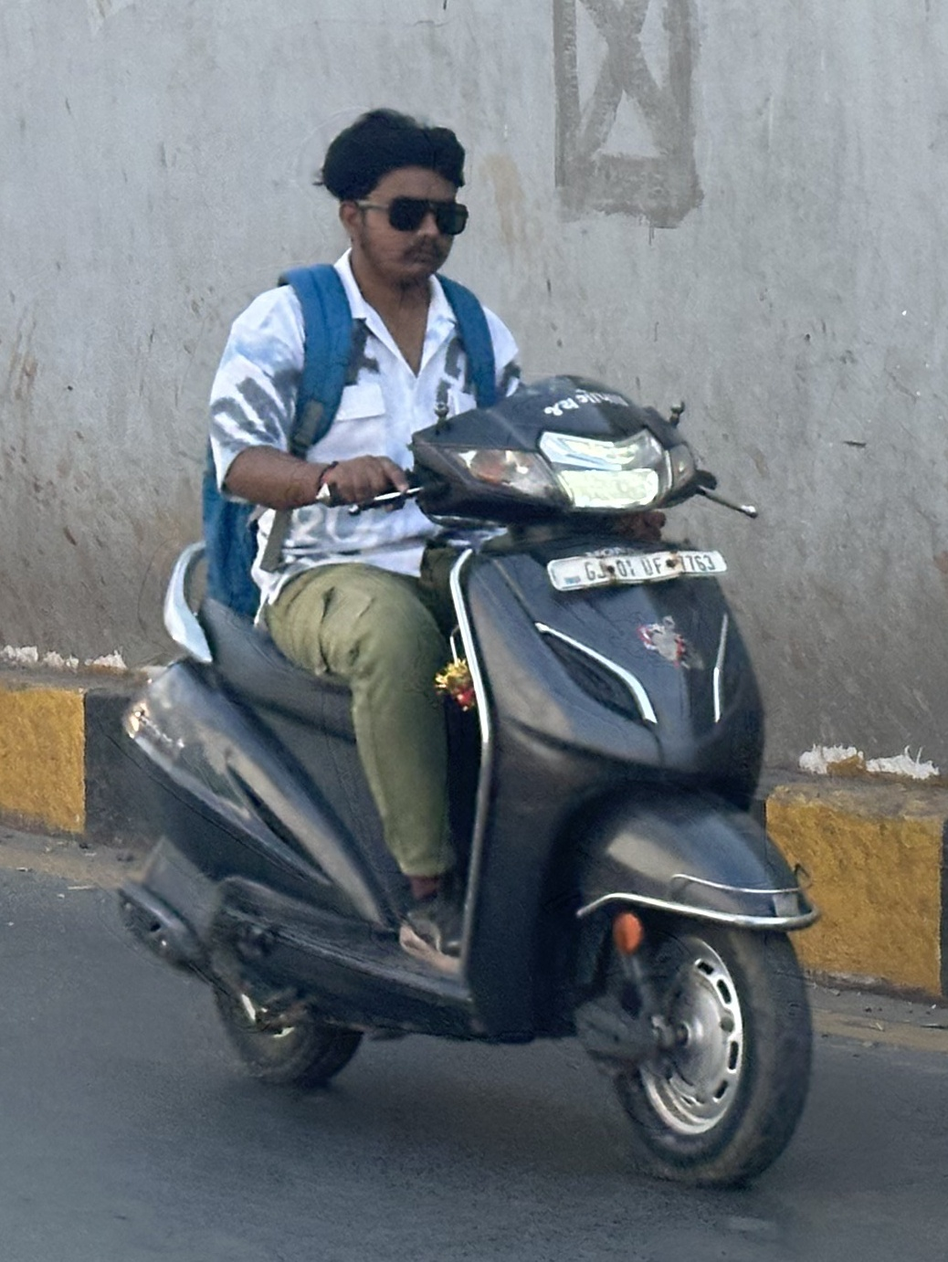BikeWithRider: (84, 91, 835, 1202)
NoHelmet: (297, 91, 487, 296)
